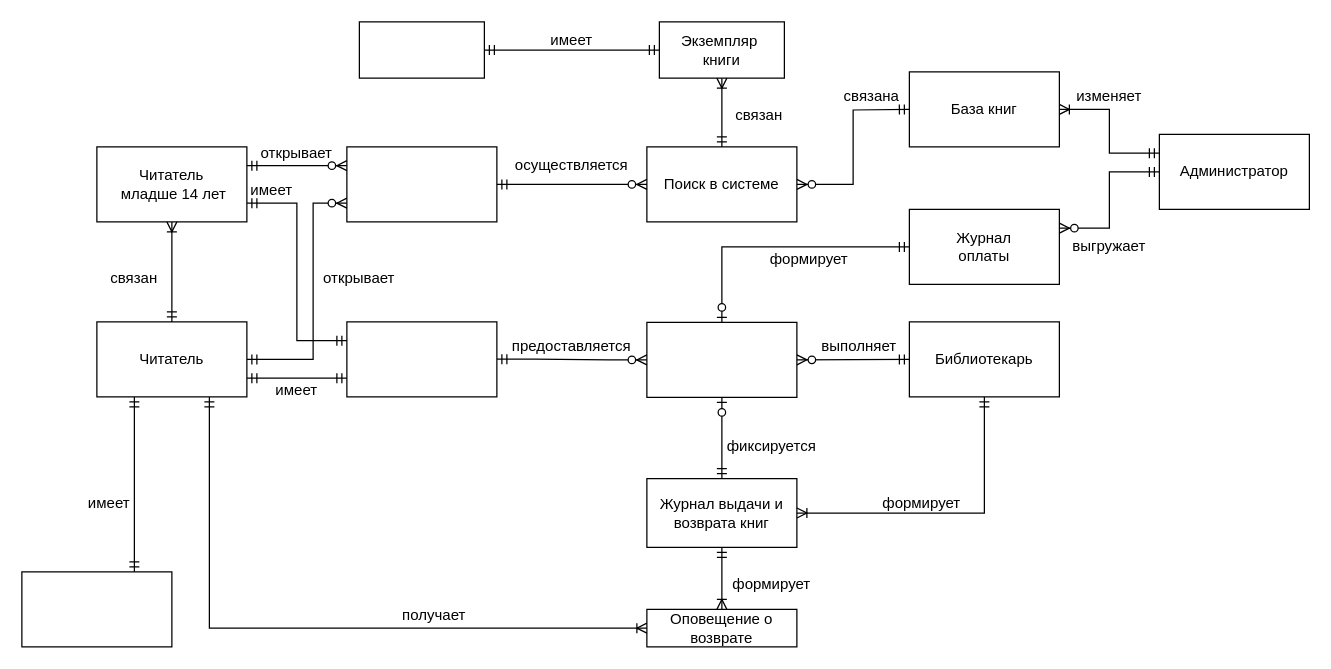
This 1331x669 diagram has some shape labels left out. The shapes that lost their labels are listed below. From the top down, each one's centre as x and y in pixels, then its label:
the point at 421,49: Уникальный штрихкод
the point at 421,184: Сессия
the point at 421,359: Читательский билет
the point at 721,359: Услуга
the point at 96,609: Контактные данные
